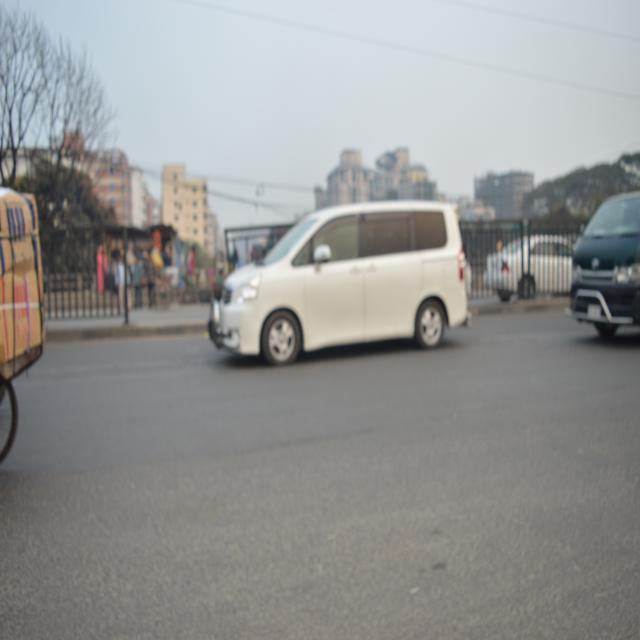car: (205, 194, 476, 382), (487, 230, 572, 308)
microbus: (569, 177, 640, 358)
